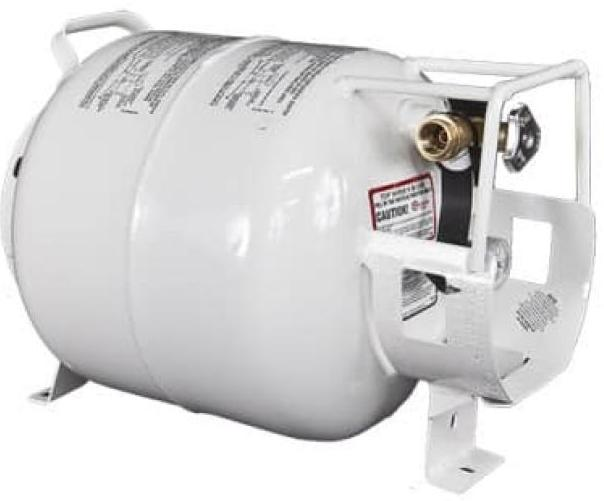cylinder: (1, 0, 604, 501)
